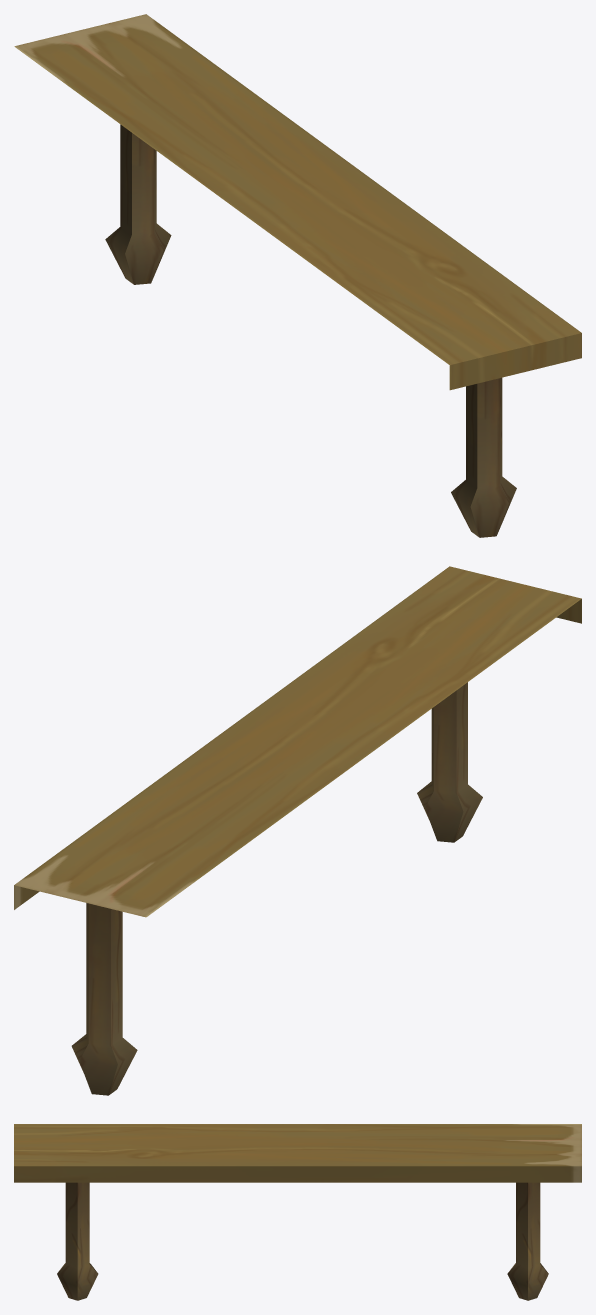
File: SkinnyTable.fbx
3 views of the same model, one above another, from view 1: azimuth 30°, elevation 25°; view 2: azimuth 150°, elevation 25°; view 3: azimuth 270°, elevation 25° (orthographic). The views are drawn at different scales.
Visible parts, largest first — view 1: polySurface62; view 2: polySurface62; view 3: polySurface62.
Boxes of the visible parts, x1=… form: polySurface62: x1=14, y1=14, x2=581, y2=537; polySurface62: x1=14, y1=566, x2=581, y2=1095; polySurface62: x1=14, y1=1124, x2=581, y2=1300.
Size of the model in its own units: 3.61 by 5.82 by 20.58.
